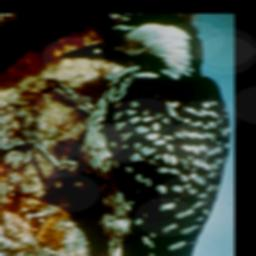Woodpecker: (0, 15, 231, 256)
